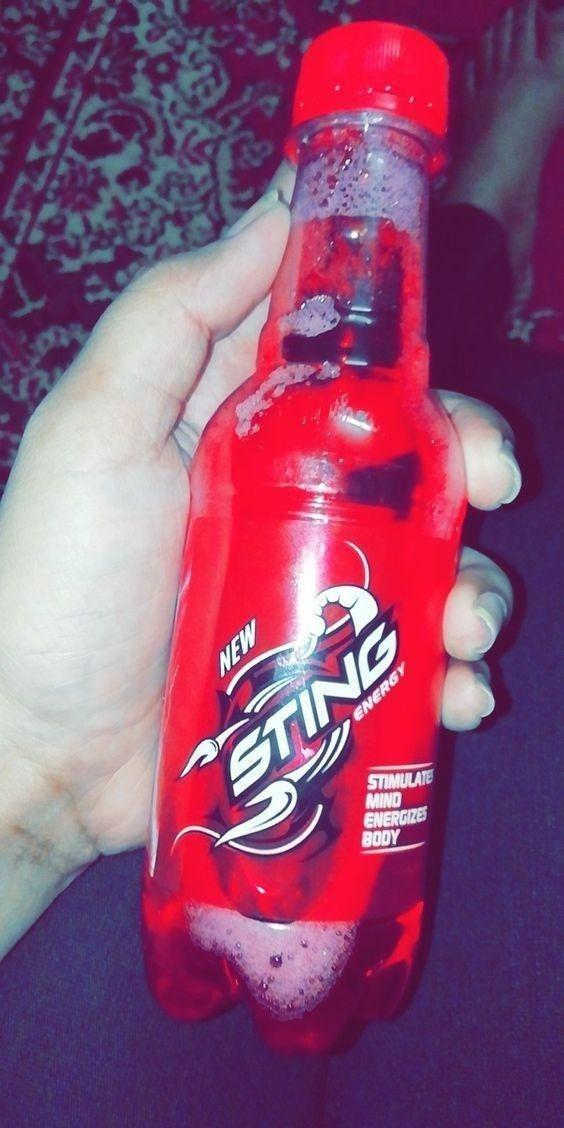bottle-plastic: (112, 11, 482, 1063)
